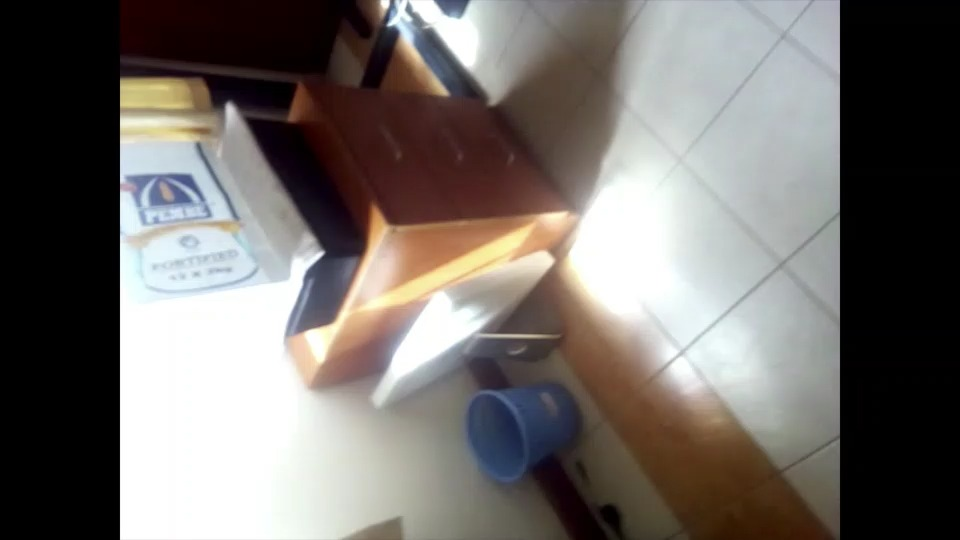wheat_flour_blue_label: (123, 145, 293, 359)
